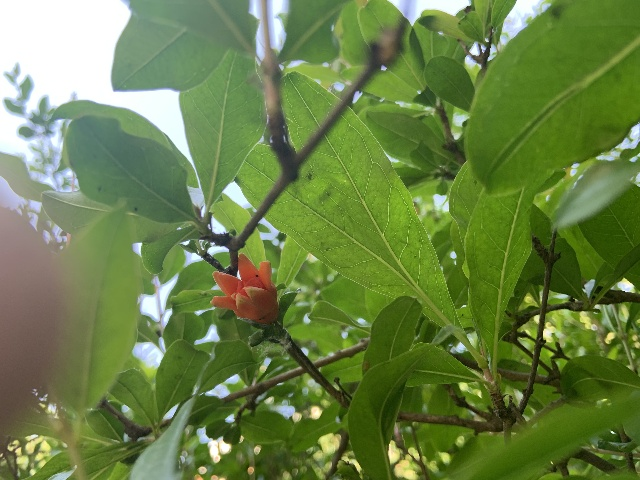flower: (210, 252, 278, 324)
